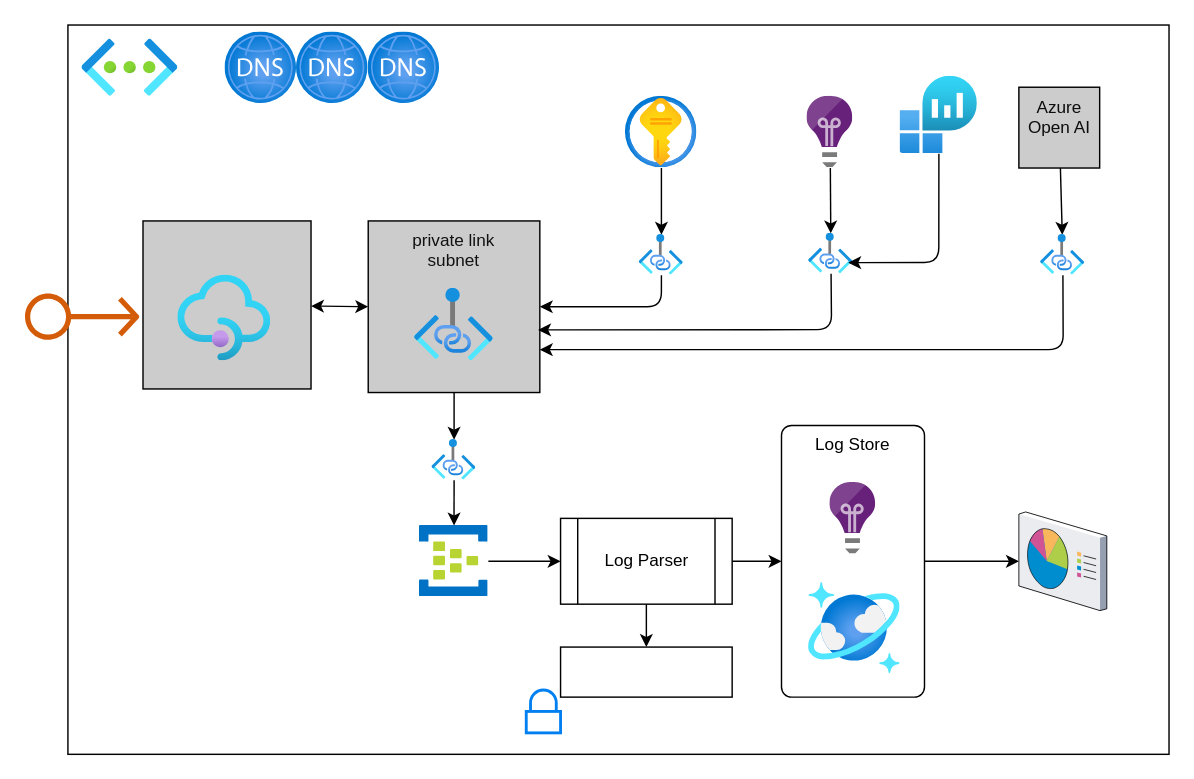
This 1194x779 diagram has some shape labels left out. Each missing label, with the box of its shape:
APIM Subnet: (142, 220, 311, 389)
Content Safety: (559, 646, 732, 697)
